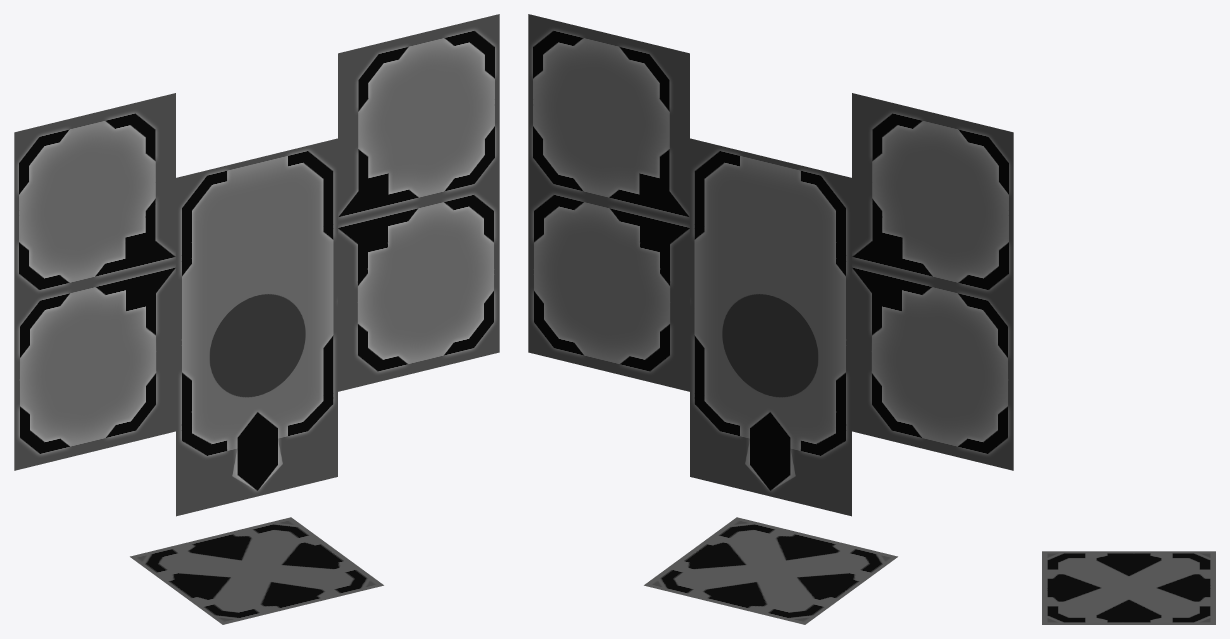
The model's file is Teleport_Gizmo.fbx.
3 views of the same model, side by side, from view 1: azimuth 30°, elevation 25°; view 2: azimuth 150°, elevation 25°; view 3: azimuth 270°, elevation 25° (orthographic). The views are drawn at different scales.
Parts seen in each view (by area): view 1: TeleportIcon, CancelButton_Left, TeleportButton_Right, TeleportButton_Left, CancelButton_Right, TeleportMarker; view 2: TeleportIcon, CancelButton_Left, TeleportButton_Right, TeleportButton_Left, CancelButton_Right, TeleportMarker; view 3: TeleportMarker.
Part boxes in pixels (bbox=[...]): TeleportIcon: bbox=[176, 138, 337, 516]; CancelButton_Left: bbox=[14, 262, 175, 470]; TeleportButton_Right: bbox=[338, 14, 499, 222]; TeleportButton_Left: bbox=[14, 93, 175, 301]; CancelButton_Right: bbox=[338, 183, 499, 391]; TeleportMarker: bbox=[130, 517, 383, 624]; TeleportIcon: bbox=[690, 138, 851, 516]; CancelButton_Left: bbox=[852, 262, 1013, 470]; TeleportButton_Right: bbox=[528, 14, 689, 222]; TeleportButton_Left: bbox=[852, 93, 1013, 301]; CancelButton_Right: bbox=[528, 183, 689, 391]; TeleportMarker: bbox=[644, 517, 897, 624]; TeleportMarker: bbox=[1042, 551, 1215, 624].
Bounding box in the file's own units: 300 × 294 × 100.
1 material, 1 textured.
